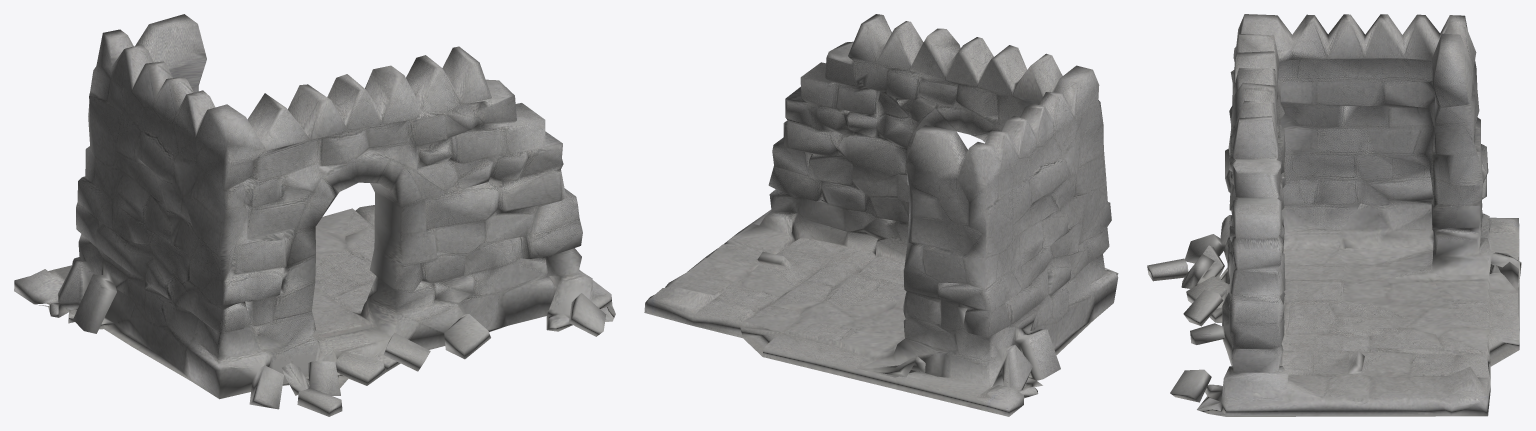
Rendered from prp_lm_wall_ruin.glb.
The picture shows the model from 3 angles, left to right: view 1: azimuth 30°, elevation 25°; view 2: azimuth 150°, elevation 25°; view 3: azimuth 270°, elevation 25°; orthographic projection. The views are drawn at different scales.
Parts seen in each view (by area): view 1: prp_lm_wall_ruin; view 2: prp_lm_wall_ruin; view 3: prp_lm_wall_ruin.
Boxes of the visible parts, x1,y1,x2,y2 form: prp_lm_wall_ruin: [14, 14, 615, 416]; prp_lm_wall_ruin: [644, 14, 1118, 416]; prp_lm_wall_ruin: [1147, 14, 1521, 416].
Size of the model in its own units: 9.97 by 6 by 8.35.
Materials: 1 (1 with a texture image).
